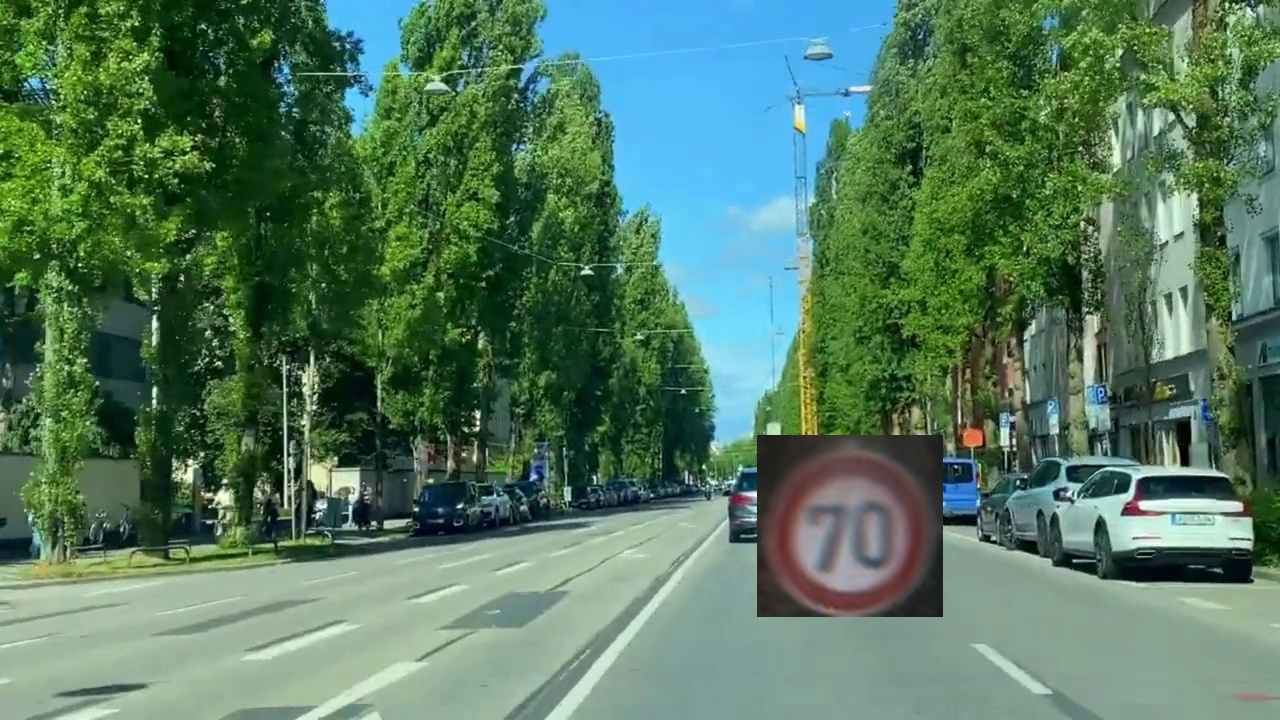Speed 70: (757, 435, 943, 617)
